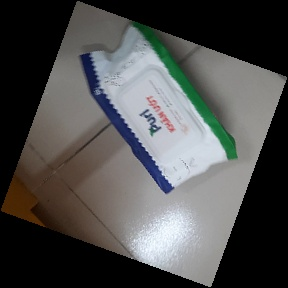Puri Trang: (76, 20, 240, 195)
